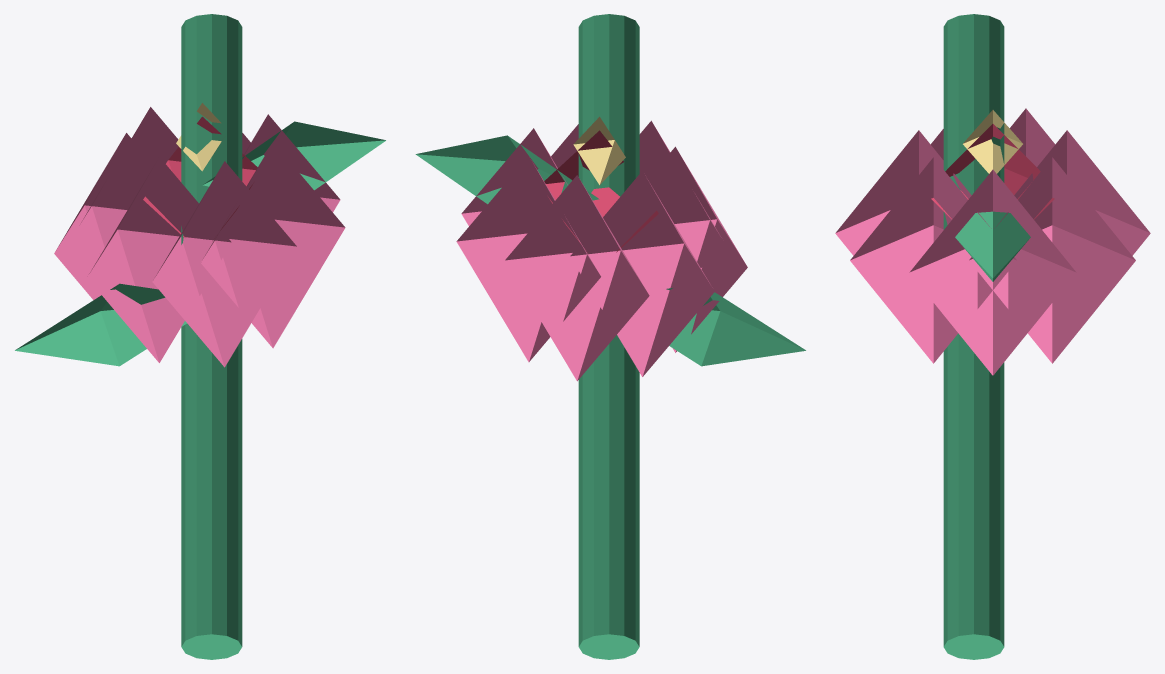
The model's file is minglora_royal_rose.gltf.
3 renders of one model, left to right at view 1: azimuth 30°, elevation 25°; view 2: azimuth 150°, elevation 25°; view 3: azimuth 270°, elevation 25°, orthographic.
Parts seen in each view (by area): view 1: minglora_royal_rose_part_0, minglora_royal_rose_part_5, minglora_royal_rose_part_6, minglora_royal_rose_part_4, minglora_royal_rose_part_7, minglora_royal_rose_part_1, minglora_royal_rose_part_2, minglora_royal_rose_part_8, minglora_royal_rose_part_3, minglora_royal_rose_part_10, minglora_royal_rose_part_11; view 2: minglora_royal_rose_part_0, minglora_royal_rose_part_7, minglora_royal_rose_part_8, minglora_royal_rose_part_9, minglora_royal_rose_part_6, minglora_royal_rose_part_1, minglora_royal_rose_part_2, minglora_royal_rose_part_10, minglora_royal_rose_part_3, minglora_royal_rose_part_5, minglora_royal_rose_part_11; view 3: minglora_royal_rose_part_0, minglora_royal_rose_part_3, minglora_royal_rose_part_9, minglora_royal_rose_part_4, minglora_royal_rose_part_8, minglora_royal_rose_part_5, minglora_royal_rose_part_2, minglora_royal_rose_part_10, minglora_royal_rose_part_11, minglora_royal_rose_part_7.
Boxes of the visible parts, bbox=[...] form: minglora_royal_rose_part_0: bbox=[181, 14, 242, 659]; minglora_royal_rose_part_5: bbox=[152, 161, 296, 367]; minglora_royal_rose_part_6: bbox=[87, 157, 231, 362]; minglora_royal_rose_part_4: bbox=[201, 142, 345, 348]; minglora_royal_rose_part_7: bbox=[54, 133, 153, 299]; minglora_royal_rose_part_1: bbox=[15, 283, 186, 366]; minglora_royal_rose_part_2: bbox=[203, 121, 385, 190]; minglora_royal_rose_part_8: bbox=[78, 107, 178, 253]; minglora_royal_rose_part_3: bbox=[244, 114, 340, 212]; minglora_royal_rose_part_10: bbox=[143, 116, 257, 238]; minglora_royal_rose_part_11: bbox=[176, 103, 221, 171]; minglora_royal_rose_part_0: bbox=[578, 14, 639, 659]; minglora_royal_rose_part_7: bbox=[570, 171, 714, 376]; minglora_royal_rose_part_8: bbox=[505, 175, 649, 381]; minglora_royal_rose_part_9: bbox=[456, 156, 600, 362]; minglora_royal_rose_part_6: bbox=[648, 146, 747, 352]; minglora_royal_rose_part_1: bbox=[666, 288, 805, 366]; minglora_royal_rose_part_2: bbox=[415, 135, 599, 204]; minglora_royal_rose_part_10: bbox=[544, 130, 658, 252]; minglora_royal_rose_part_3: bbox=[461, 128, 567, 225]; minglora_royal_rose_part_5: bbox=[639, 120, 723, 267]; minglora_royal_rose_part_11: bbox=[573, 116, 625, 185]; minglora_royal_rose_part_0: bbox=[943, 14, 1004, 659]; minglora_royal_rose_part_3: bbox=[909, 169, 1076, 375]; minglora_royal_rose_part_9: bbox=[969, 157, 1135, 363]; minglora_royal_rose_part_4: bbox=[850, 157, 1016, 363]; minglora_royal_rose_part_8: bbox=[1014, 130, 1150, 255]; minglora_royal_rose_part_5: bbox=[835, 130, 971, 255]; minglora_royal_rose_part_2: bbox=[955, 211, 1030, 281]; minglora_royal_rose_part_10: bbox=[931, 124, 1054, 219]; minglora_royal_rose_part_11: bbox=[963, 110, 1022, 173]; minglora_royal_rose_part_7: bbox=[1009, 108, 1054, 166].
Size of the model in its own units: 1.16 by 1.8 by 0.83.
